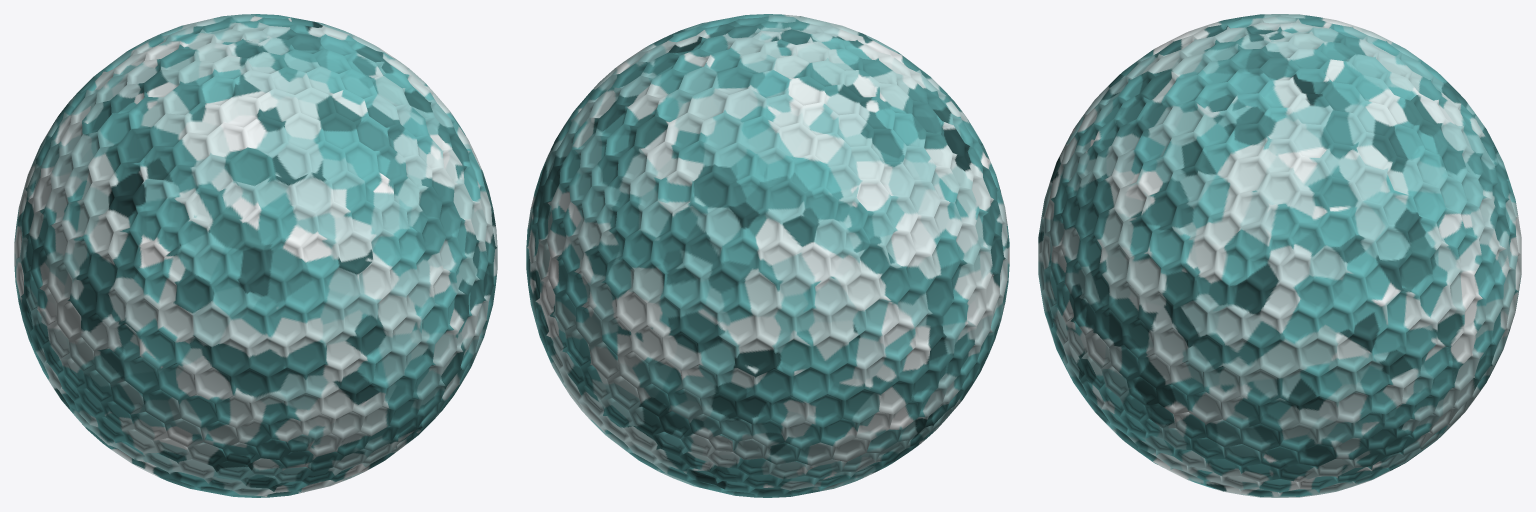
The model's file is LightBCamoBall.fbx.
3 renders of one model, left to right at view 1: azimuth 30°, elevation 25°; view 2: azimuth 150°, elevation 25°; view 3: azimuth 270°, elevation 25°, orthographic.
Visible parts, largest first — view 1: GolfBall; view 2: GolfBall; view 3: GolfBall.
Boxes of the visible parts, x1,y1,x2,y2 form: GolfBall: [14, 14, 497, 497]; GolfBall: [526, 14, 1009, 497]; GolfBall: [1038, 14, 1521, 497].
Bounding box in the file's own units: 37.86 × 38 × 37.87.
1 material, 1 textured.
